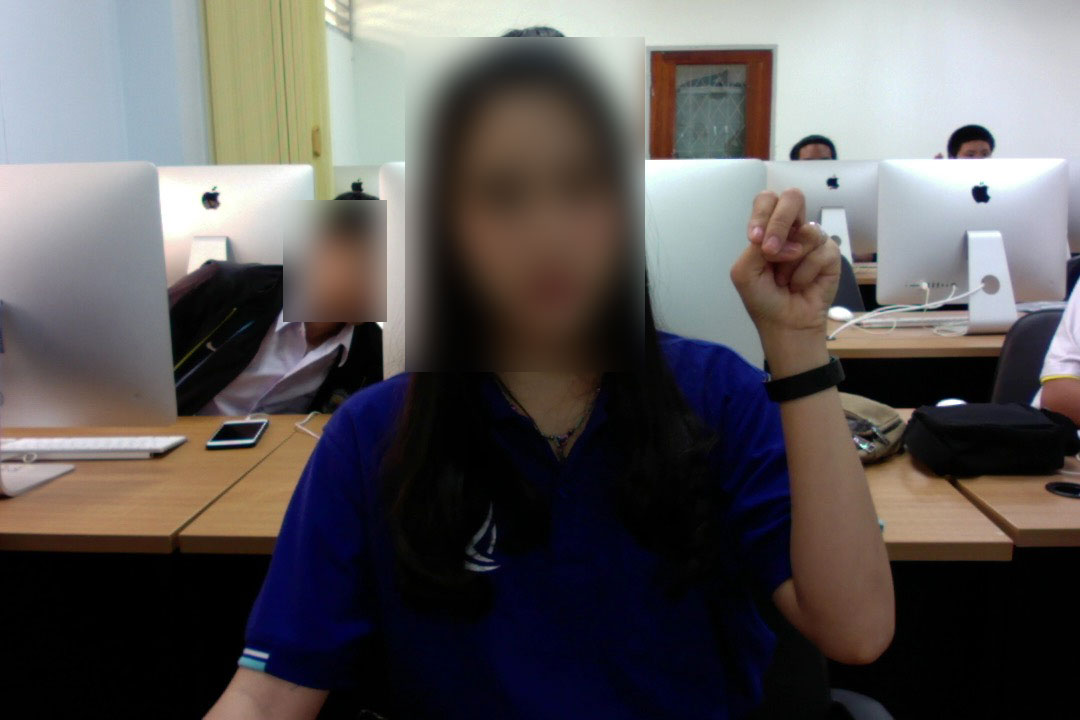nor: (720, 181, 850, 352)
